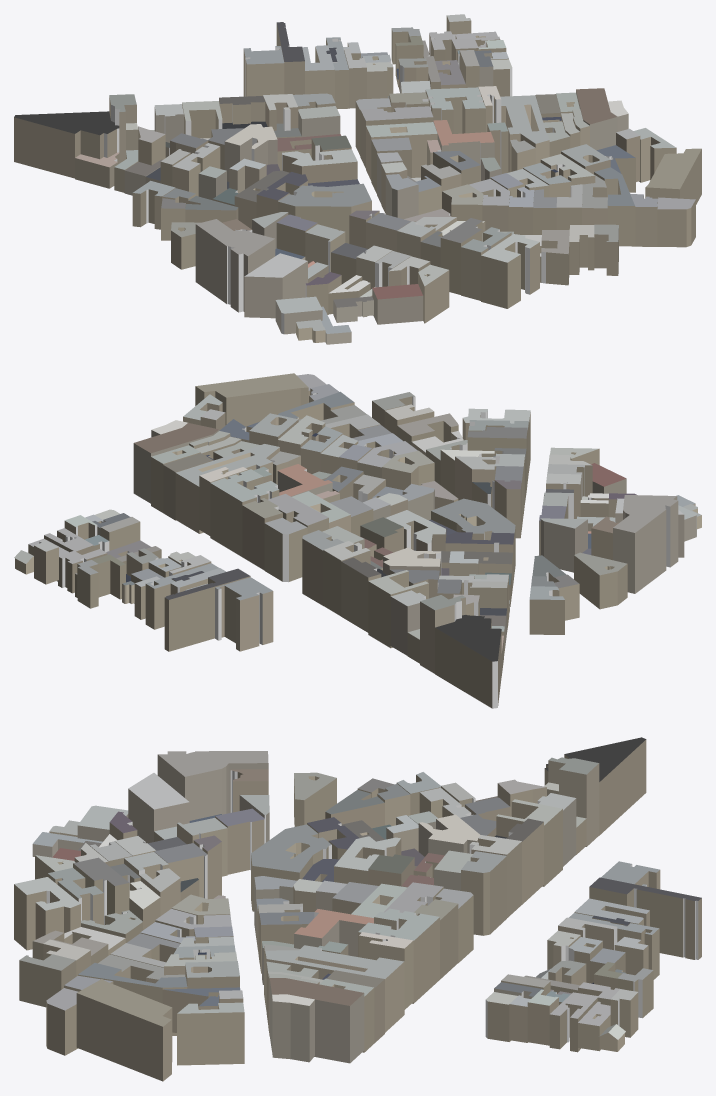
The picture shows the model from 3 angles, top to bottom: view 1: azimuth 30°, elevation 25°; view 2: azimuth 150°, elevation 25°; view 3: azimuth 270°, elevation 25°; orthographic projection. The views are drawn at different scales.
Parts seen in each view (by area): view 1: tuile; view 2: tuile; view 3: tuile.
Boxes of the visible parts, box(x1,y1,x2,y2) form: tuile: box(14, 14, 701, 344); tuile: box(14, 373, 701, 708); tuile: box(14, 737, 701, 1081).
Size of the model in its own units: 284 by 42.03 by 290.
